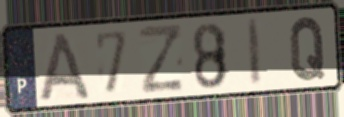7: (94, 28, 130, 97)
8: (190, 21, 230, 91)
A: (37, 31, 94, 103)
I: (245, 16, 264, 89)
Q: (288, 15, 327, 84)
Z: (136, 22, 186, 98)
